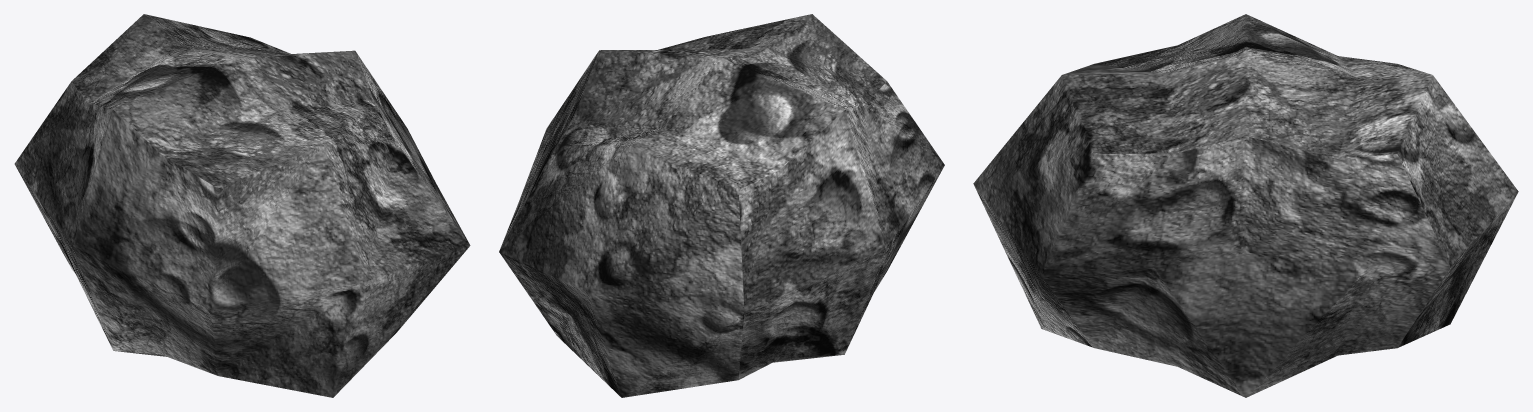
The model's file is Asteroid3.fbx.
3 views of the same model, side by side, from view 1: azimuth 30°, elevation 25°; view 2: azimuth 150°, elevation 25°; view 3: azimuth 270°, elevation 25° (orthographic). The views are drawn at different scales.
Visible parts, largest first — view 1: Asteroid3; view 2: Asteroid3; view 3: Asteroid3.
Boxes of the visible parts, x1=… form: Asteroid3: x1=14, y1=14, x2=470, y2=397; Asteroid3: x1=499, y1=14, x2=944, y2=397; Asteroid3: x1=973, y1=14, x2=1518, y2=397.
Size of the model in its own units: 8.73 by 7.62 by 11.92.
1 material, 1 textured.
